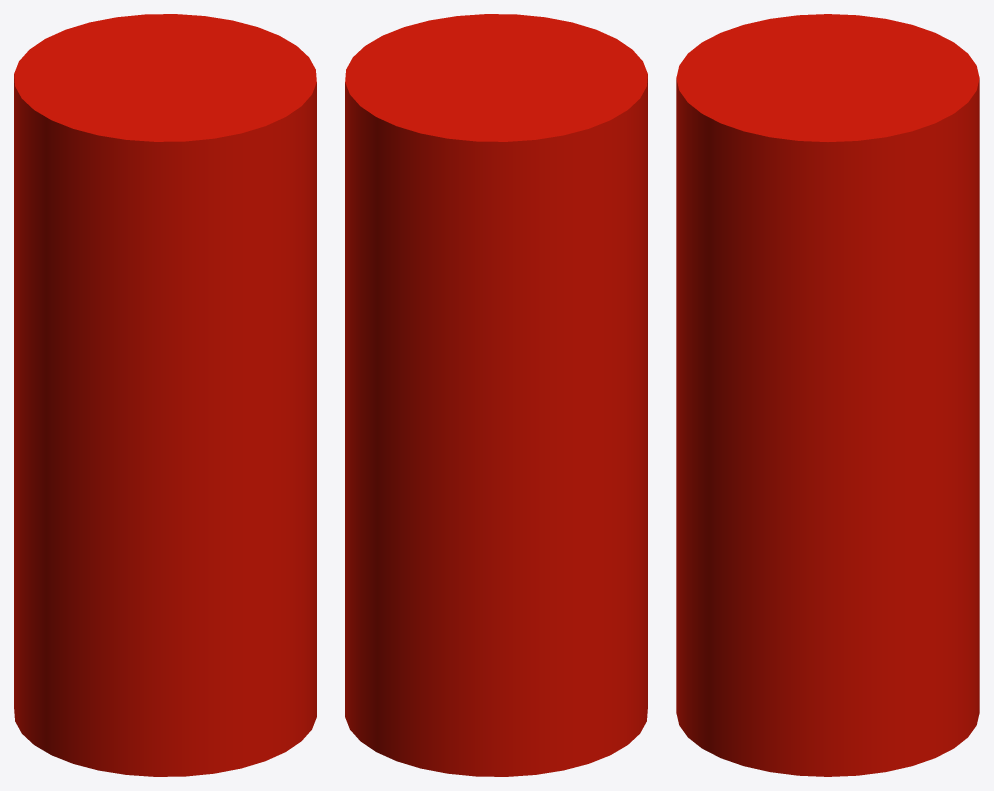
Rendered from Liquid.fbx.
3 views of the same model, side by side, from view 1: azimuth 30°, elevation 25°; view 2: azimuth 150°, elevation 25°; view 3: azimuth 270°, elevation 25° (orthographic).
Parts seen in each view (by area): view 1: Liquid; view 2: Liquid; view 3: Liquid.
Boxes of the visible parts, x1,y1,x2,y2 form: Liquid: (14, 14, 316, 776); Liquid: (345, 14, 647, 776); Liquid: (676, 14, 979, 776).
Bounding box in the file's own units: 50.68 × 117 × 50.68.
